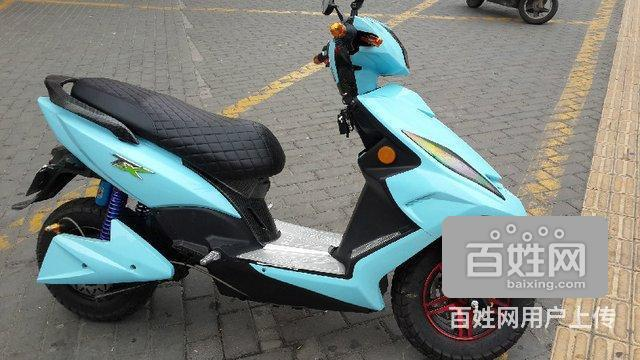电动车: (13, 1, 544, 358)
